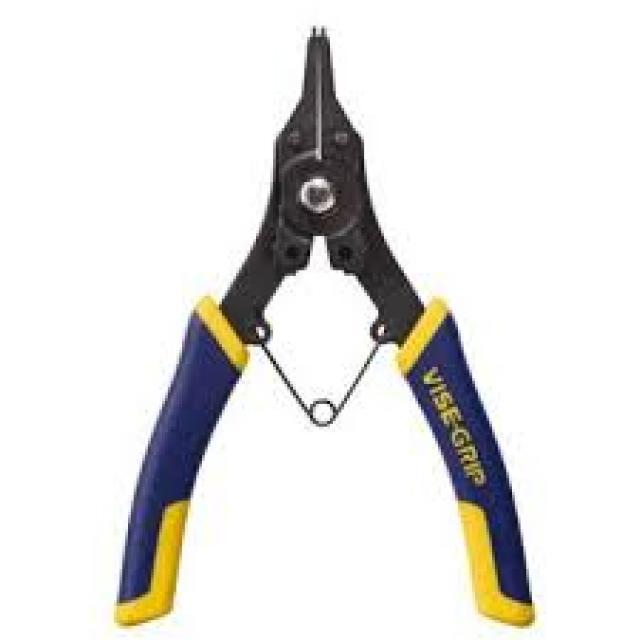pliers: (96, 16, 544, 626)
